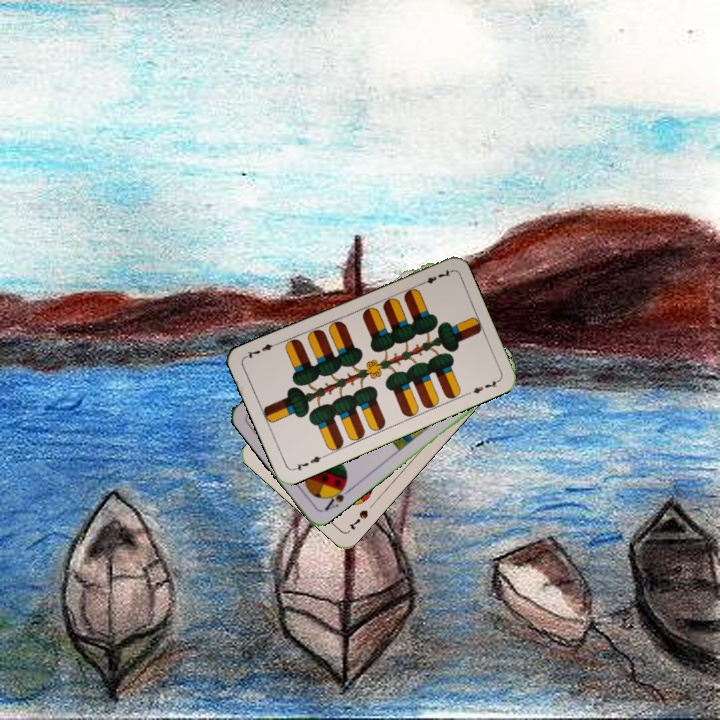E7: (289, 451, 328, 473), (415, 266, 453, 288)
S7: (345, 506, 371, 533)
SA: (320, 479, 354, 514)
